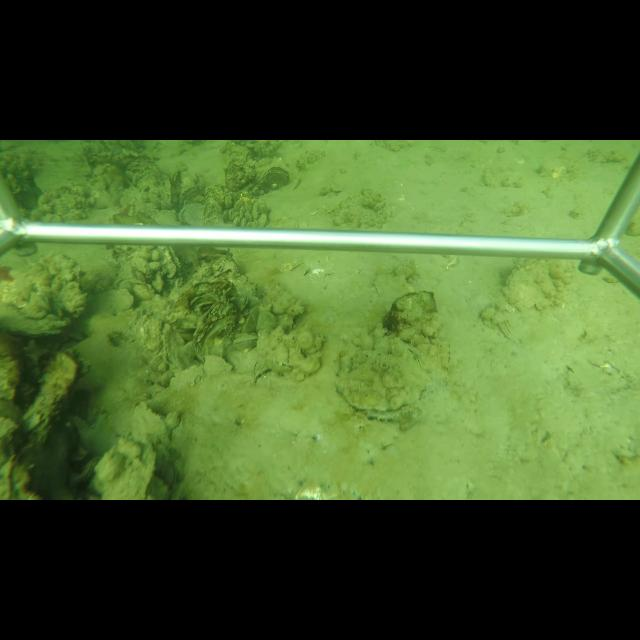Oyster-Closed: (339, 336, 429, 422), (177, 278, 237, 358), (384, 290, 440, 344), (506, 263, 554, 309), (248, 166, 290, 198), (224, 154, 256, 190), (255, 308, 277, 336), (239, 305, 259, 335), (232, 333, 260, 351), (258, 214, 268, 230), (253, 202, 261, 220), (244, 199, 253, 213), (160, 200, 172, 210), (234, 199, 244, 211), (227, 208, 235, 222), (244, 210, 253, 222), (232, 215, 240, 225), (240, 206, 247, 217), (240, 217, 247, 227), (246, 222, 254, 228)
